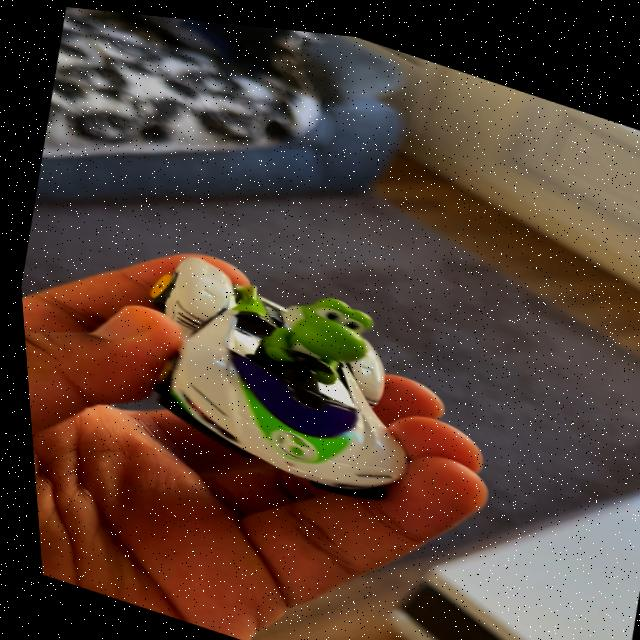yoshi: (101, 219, 460, 523)
